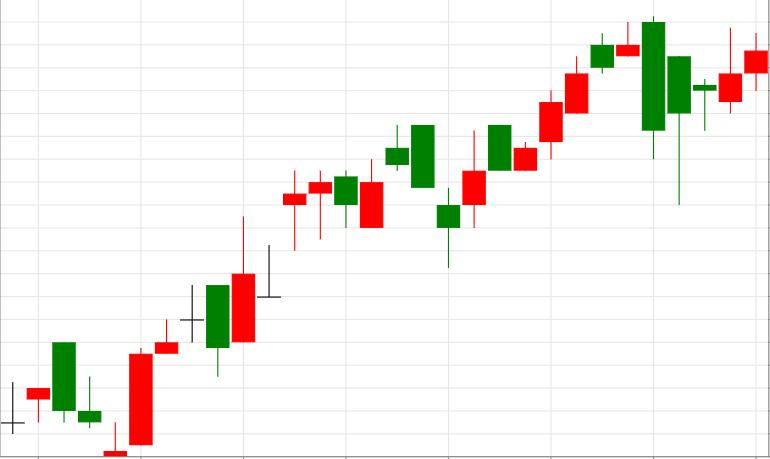bearish_engulfing_fall: (437, 17, 665, 268)
